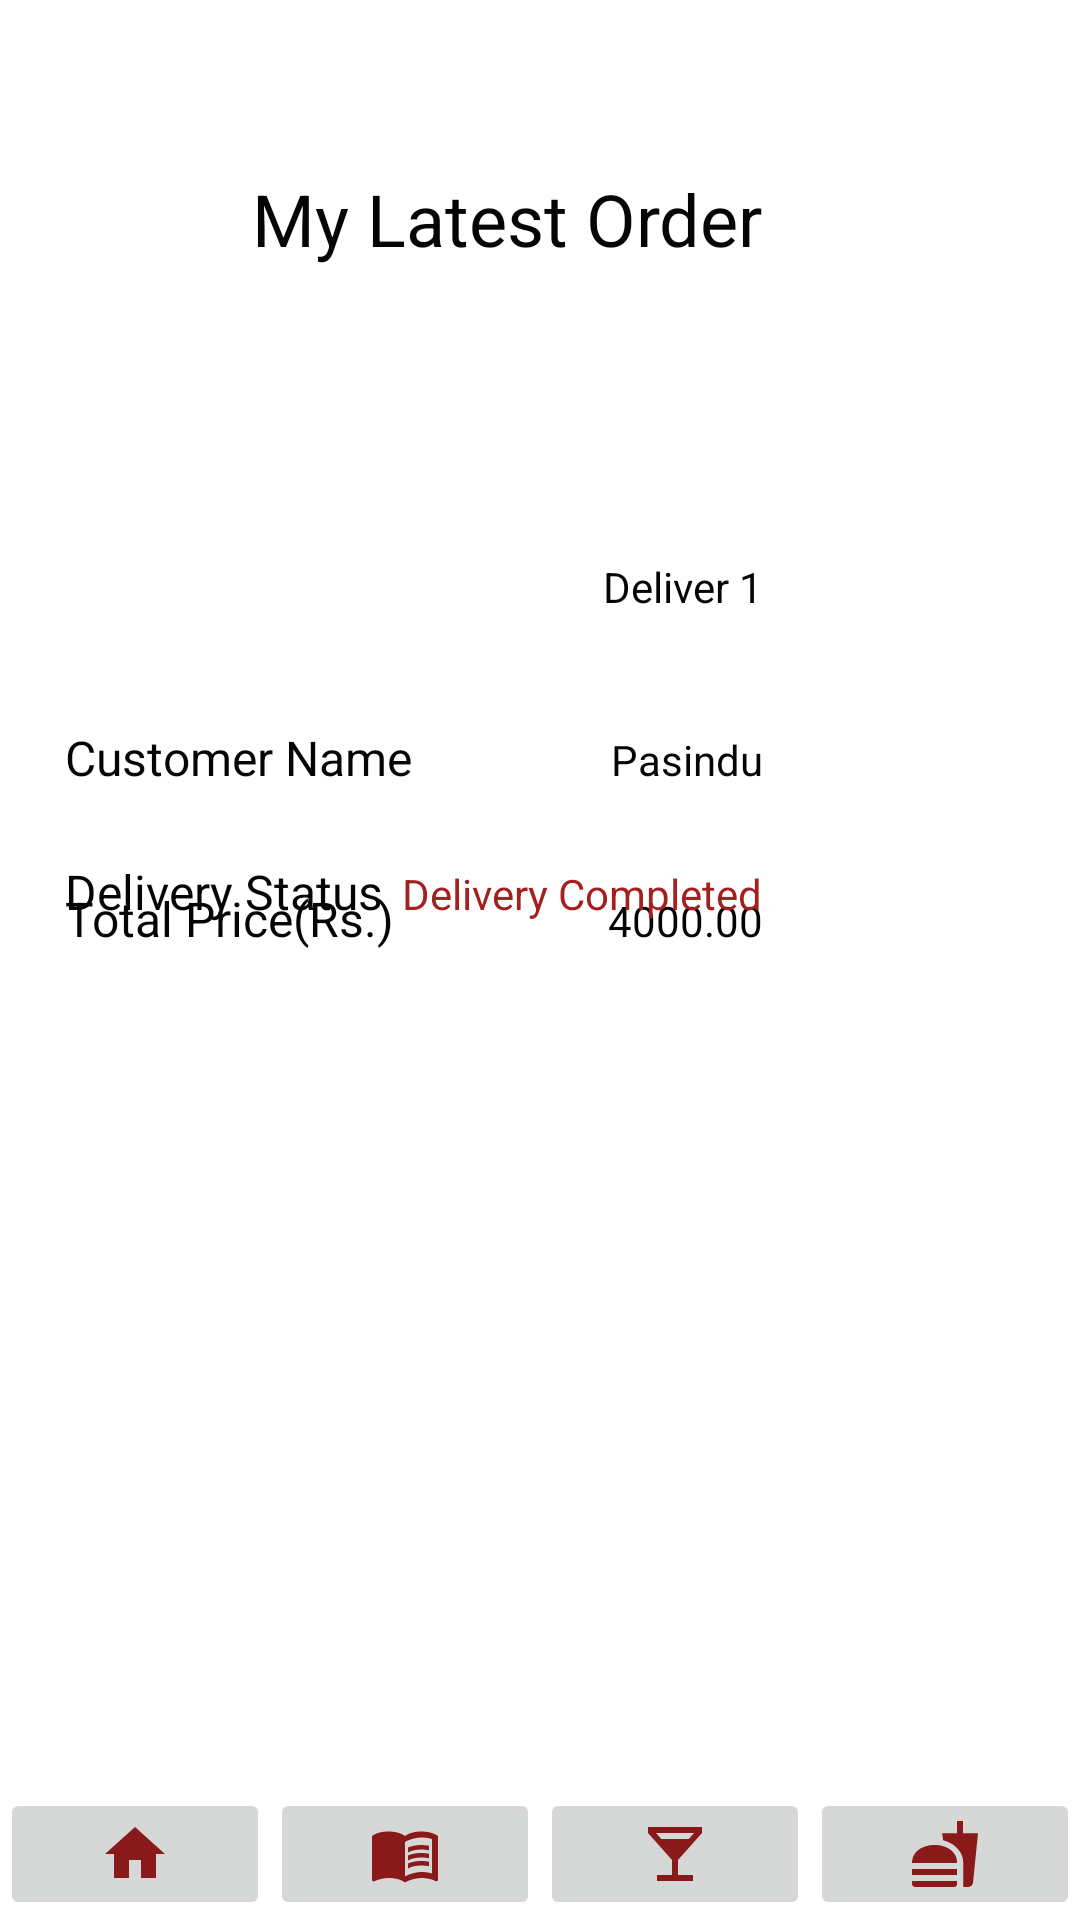

Where icons sit on this 1080w x 1920h app screen, as (x1, y1, x2, y2):
book: (282, 1806, 528, 1902)
fastfood: (822, 1806, 1068, 1902)
home: (12, 1806, 258, 1902)
local bar: (552, 1806, 798, 1902)
